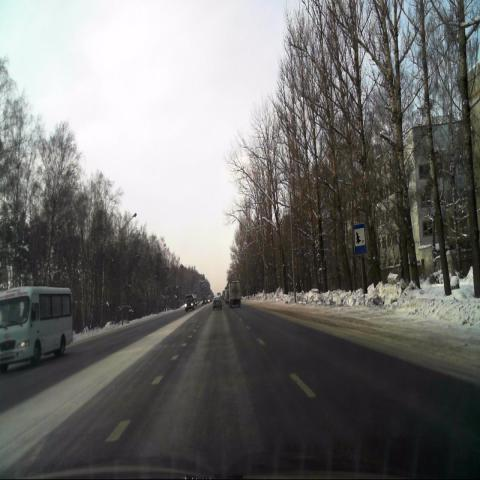7_11: (353, 224, 365, 256)
